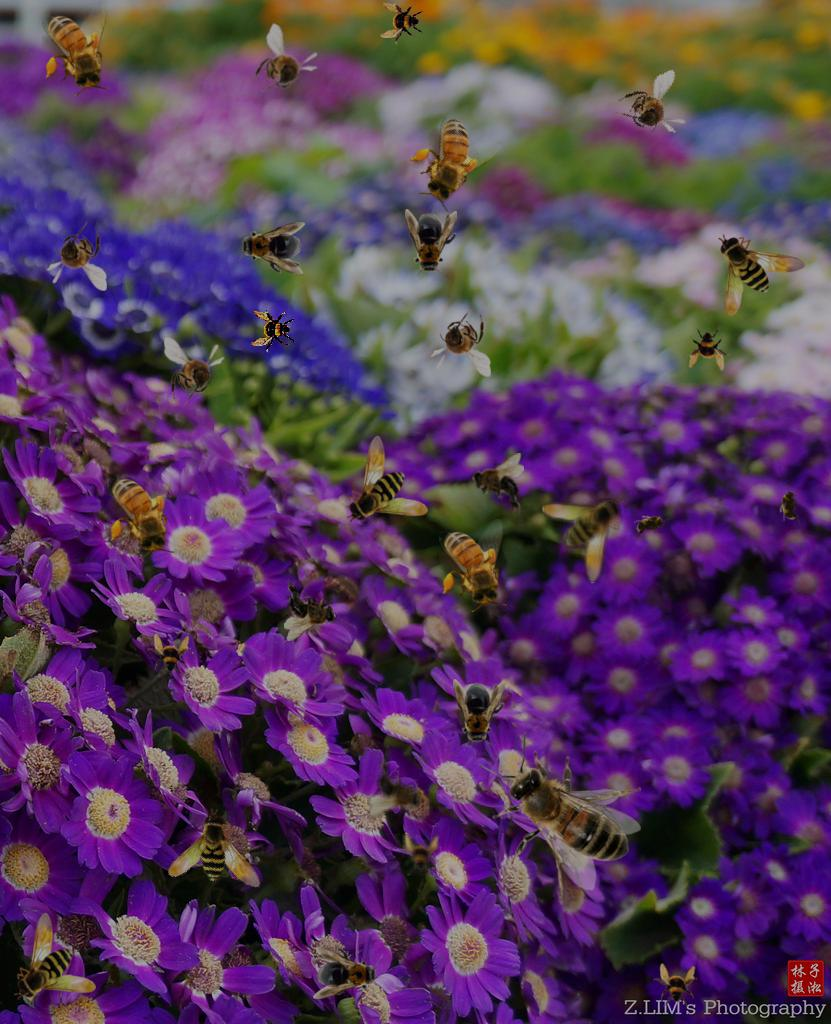Bee: (479, 732, 641, 899), (159, 805, 281, 925), (394, 102, 508, 217), (241, 21, 328, 113), (607, 68, 696, 152), (14, 912, 96, 1000), (346, 435, 428, 523), (542, 496, 624, 584), (718, 234, 806, 316), (107, 466, 175, 559), (42, 3, 110, 96), (439, 519, 507, 612), (365, 755, 430, 827), (164, 337, 225, 407), (46, 221, 107, 291), (430, 307, 491, 377), (237, 222, 305, 274), (405, 209, 457, 277), (313, 947, 381, 999), (453, 679, 505, 747), (284, 579, 337, 641), (471, 453, 524, 515), (653, 963, 697, 1007), (251, 309, 295, 353), (380, 1, 424, 45), (147, 633, 191, 677), (397, 832, 441, 876), (687, 327, 731, 371), (101, 953, 131, 997), (629, 510, 673, 540), (779, 485, 801, 525)
